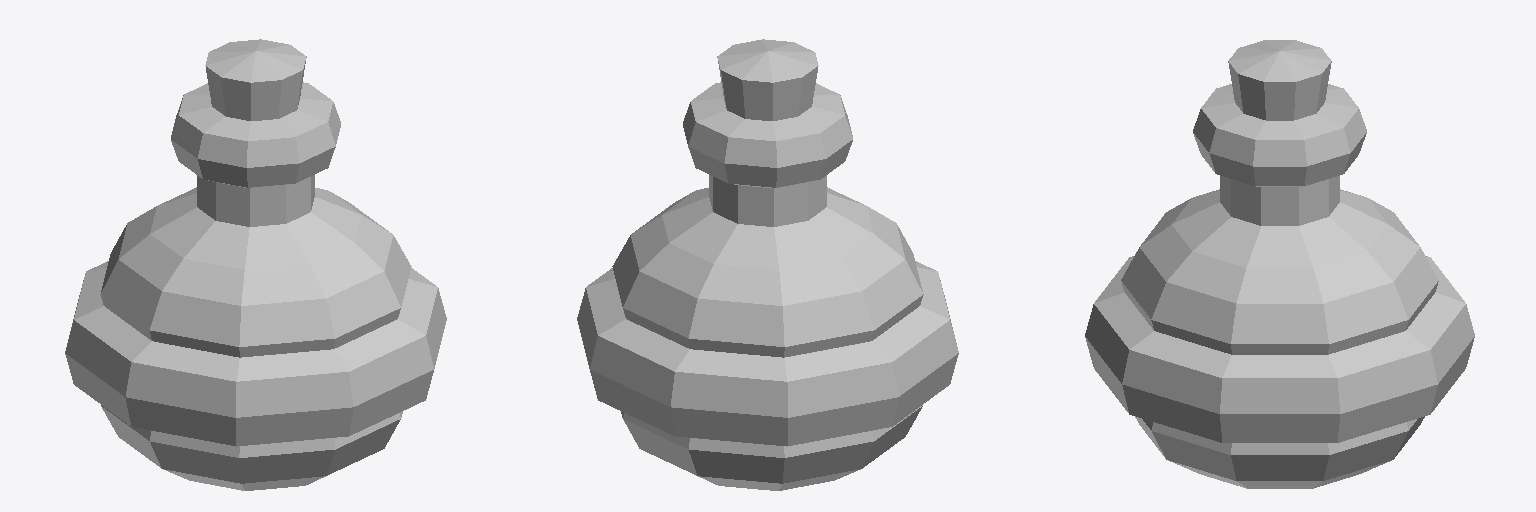
File: potion_huge_blue.obj
The picture shows the model from 3 angles: view 1: azimuth 30°, elevation 25°; view 2: azimuth 150°, elevation 25°; view 3: azimuth 270°, elevation 25°; orthographic projection.
Parts seen in each view (by area): view 1: potion_huge_blue; view 2: potion_huge_blue; view 3: potion_huge_blue.
Part boxes in pixels (left/top/right/bottom): potion_huge_blue: left=65, top=39, right=446, bottom=490; potion_huge_blue: left=577, top=39, right=958, bottom=490; potion_huge_blue: left=1085, top=40, right=1474, bottom=488.
Size of the model in its own units: 0.5063 by 0.6166 by 0.5324.